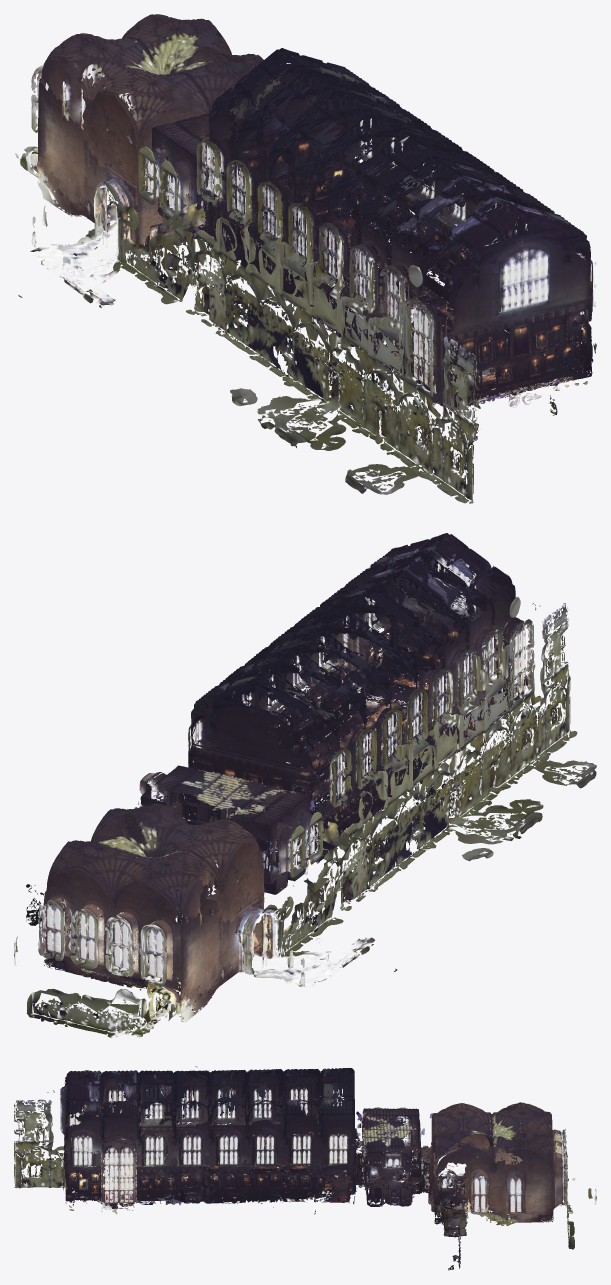
The model's file is christ-church.glb.
3 views of the same model, one above another, from view 1: azimuth 30°, elevation 25°; view 2: azimuth 150°, elevation 25°; view 3: azimuth 270°, elevation 25° (orthographic). The views are drawn at different scales.
Visible parts, largest first — view 1: Christ Church, Oxford; view 2: Christ Church, Oxford; view 3: Christ Church, Oxford.
Part boxes in pixels (x1,y1,x2,y2): Christ Church, Oxford: (14, 14, 596, 503); Christ Church, Oxford: (14, 533, 596, 1037); Christ Church, Oxford: (14, 1066, 596, 1270).
Bounding box in the file's own units: 32.44 × 21.63 × 70.15.
20 materials, 19 textured.
